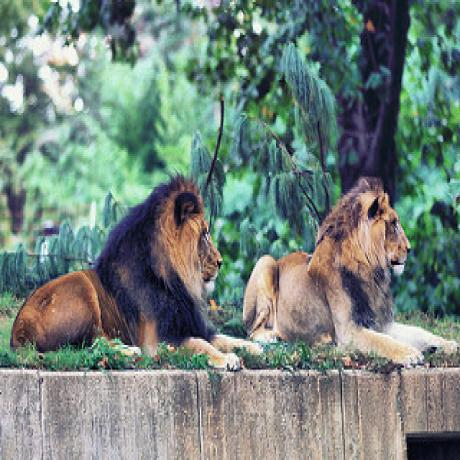Lion: (10, 170, 229, 353), (240, 175, 456, 356)
